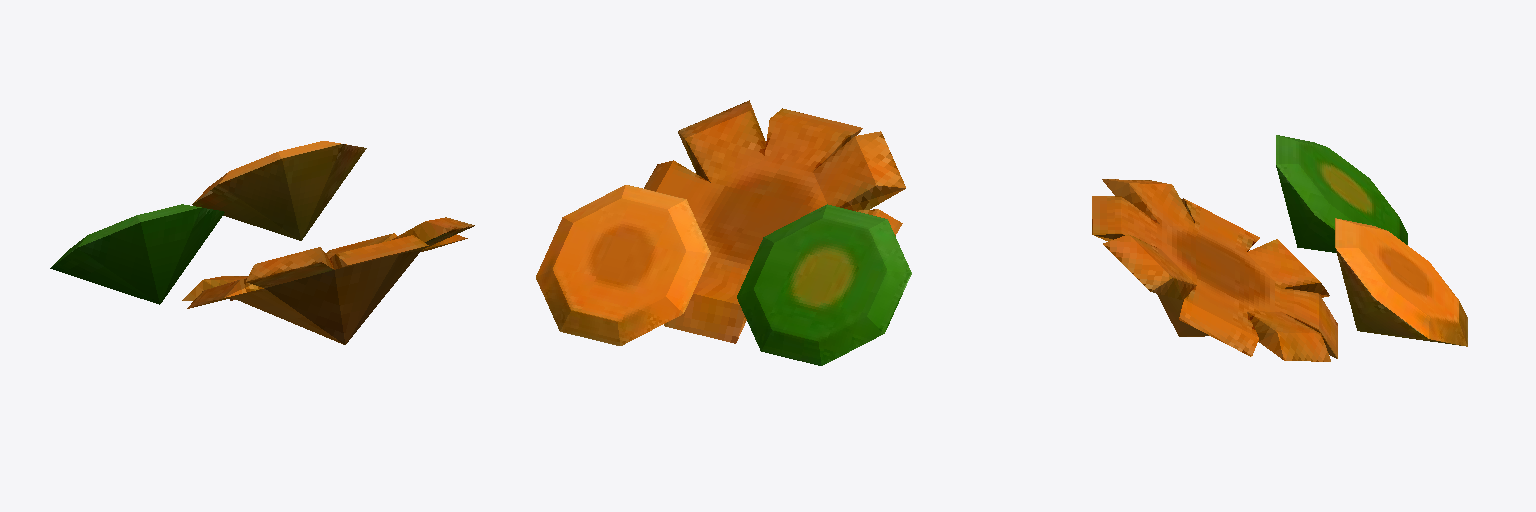
3 renders of one model, left to right at view 1: azimuth 30°, elevation 25°; view 2: azimuth 150°, elevation 25°; view 3: azimuth 270°, elevation 25°, orthographic.
Visible parts, largest first — view 1: FOL_Flower_MID_07; view 2: FOL_Flower_MID_07; view 3: FOL_Flower_MID_07.
Part boxes in pixels (bbox=[...]): FOL_Flower_MID_07: bbox=[50, 141, 474, 344]; FOL_Flower_MID_07: bbox=[536, 100, 911, 365]; FOL_Flower_MID_07: bbox=[1092, 135, 1467, 361].
Size of the model in its own units: 0.4374 by 0.1743 by 0.4402.
Materials: 1 (1 with a texture image).